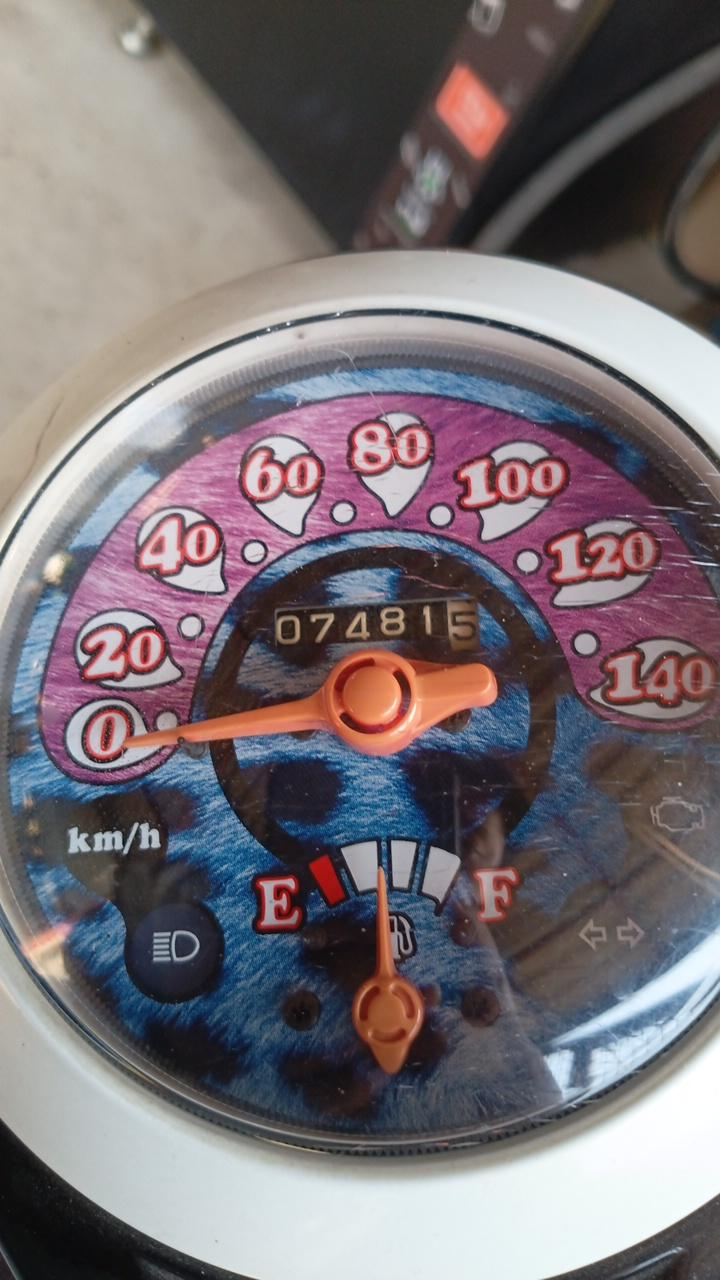0: (276, 614, 301, 646)
1: (422, 604, 433, 636)
4: (343, 610, 371, 641)
5: (450, 608, 478, 643)
7: (309, 612, 336, 644)
8: (379, 606, 406, 636)
odometer: (272, 594, 484, 658)
